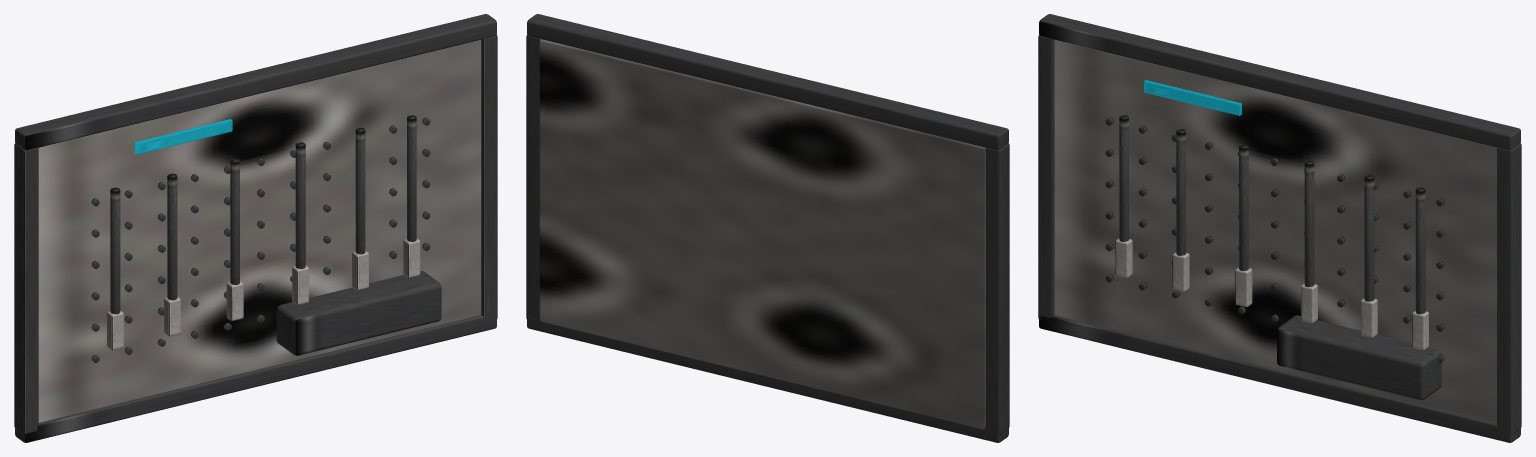
File: room_l1_img2_wall_tool_board.glb
The picture shows the model from 3 angles, left to right: view 1: azimuth 30°, elevation 25°; view 2: azimuth 150°, elevation 25°; view 3: azimuth 330°, elevation 25°; orthographic projection.
Visible parts, largest first — view 1: tool_board_back_panel, tool_board_dark_frame_top, tool_board_lower_parts_bin, tool_board_dark_frame_bottom, tool_board_dark_frame_left, tool_board_dark_frame_right, tool_board_hanging_tool_1, tool_board_hanging_tool_5, tool_board_hanging_tool_2, tool_board_hanging_tool_4, tool_board_cyan_calibration_tag, tool_board_hanging_tool_6 (+7 smaller); view 2: tool_board_back_panel, tool_board_dark_frame_top, tool_board_dark_frame_left, tool_board_dark_frame_bottom, tool_board_dark_frame_right; view 3: tool_board_back_panel, tool_board_dark_frame_top, tool_board_lower_parts_bin, tool_board_dark_frame_bottom, tool_board_dark_frame_right, tool_board_dark_frame_left, tool_board_hanging_tool_6, tool_board_hanging_tool_4, tool_board_hanging_tool_5, tool_board_cyan_calibration_tag, tool_board_hanging_tool_1, tool_board_hanging_tool_2 (+7 smaller).
Part boxes in pixels (x1,y1,x2,y2): tool_board_back_panel: (38, 40, 481, 422); tool_board_dark_frame_top: (15, 14, 496, 150); tool_board_lower_parts_bin: (276, 271, 441, 355); tool_board_dark_frame_bottom: (15, 315, 496, 442); tool_board_dark_frame_left: (14, 143, 38, 434); tool_board_dark_frame_right: (481, 35, 497, 321); tool_board_hanging_tool_1: (110, 187, 120, 314); tool_board_hanging_tool_5: (355, 127, 365, 254); tool_board_hanging_tool_2: (167, 173, 177, 300); tool_board_hanging_tool_4: (295, 142, 305, 268); tool_board_cyan_calibration_tag: (134, 119, 232, 154); tool_board_hanging_tool_6: (407, 115, 416, 241); tool_board_back_panel: (539, 39, 985, 429); tool_board_dark_frame_top: (527, 14, 1008, 150); tool_board_dark_frame_left: (985, 143, 1009, 434); tool_board_dark_frame_bottom: (527, 316, 1008, 442); tool_board_dark_frame_right: (526, 35, 540, 321); tool_board_back_panel: (1054, 40, 1497, 422); tool_board_dark_frame_top: (1039, 14, 1520, 150); tool_board_lower_parts_bin: (1277, 315, 1441, 399); tool_board_dark_frame_bottom: (1039, 315, 1520, 442); tool_board_dark_frame_right: (1497, 143, 1521, 434); tool_board_dark_frame_left: (1038, 35, 1054, 320); tool_board_hanging_tool_6: (1415, 187, 1425, 314); tool_board_hanging_tool_4: (1304, 160, 1314, 287); tool_board_hanging_tool_5: (1364, 175, 1374, 301); tool_board_cyan_calibration_tag: (1144, 80, 1241, 115); tool_board_hanging_tool_1: (1119, 115, 1128, 241); tool_board_hanging_tool_2: (1176, 129, 1185, 255).
Size of the model in its own units: 1.67 by 1.03 by 0.1675.
Materials: 5 (5 with a texture image).
